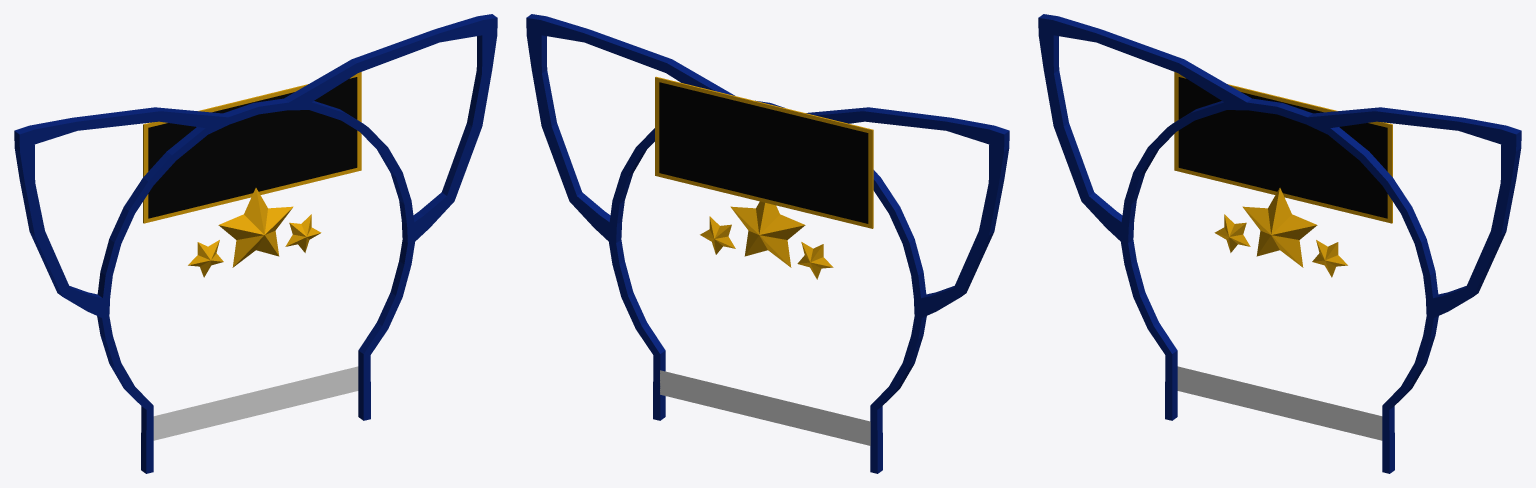
Rendered from goalpost.glb.
3 renders of one model, left to right at view 1: azimuth 30°, elevation 25°; view 2: azimuth 150°, elevation 25°; view 3: azimuth 330°, elevation 25°, orthographic.
Parts seen in each view (by area): view 1: Frame, Scoreboard, Goal Indicator, Circle; view 2: Scoreboard, Frame, Goal Indicator, Circle; view 3: Frame, Scoreboard, Goal Indicator, Circle.
Part boxes in pixels (x1=…): Frame: x1=14, y1=14, x2=497, y2=473; Scoreboard: x1=143, y1=72, x2=361, y2=223; Goal Indicator: x1=153, y1=366, x2=358, y2=440; Circle: x1=188, y1=188, x2=321, y2=277; Scoreboard: x1=655, y1=76, x2=873, y2=228; Frame: x1=526, y1=14, x2=1009, y2=473; Goal Indicator: x1=660, y1=370, x2=870, y2=445; Circle: x1=700, y1=201, x2=833, y2=279; Frame: x1=1038, y1=14, x2=1521, y2=473; Scoreboard: x1=1174, y1=72, x2=1392, y2=223; Goal Indicator: x1=1177, y1=366, x2=1382, y2=440; Circle: x1=1214, y1=188, x2=1347, y2=277.
Bounding box in the file's own units: 3.22 × 2.39 × 0.2041.
